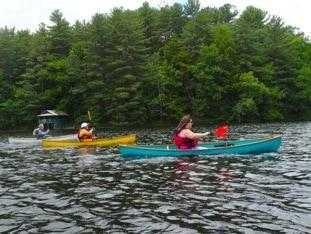kayak: (117, 134, 283, 160), (41, 132, 141, 148)
